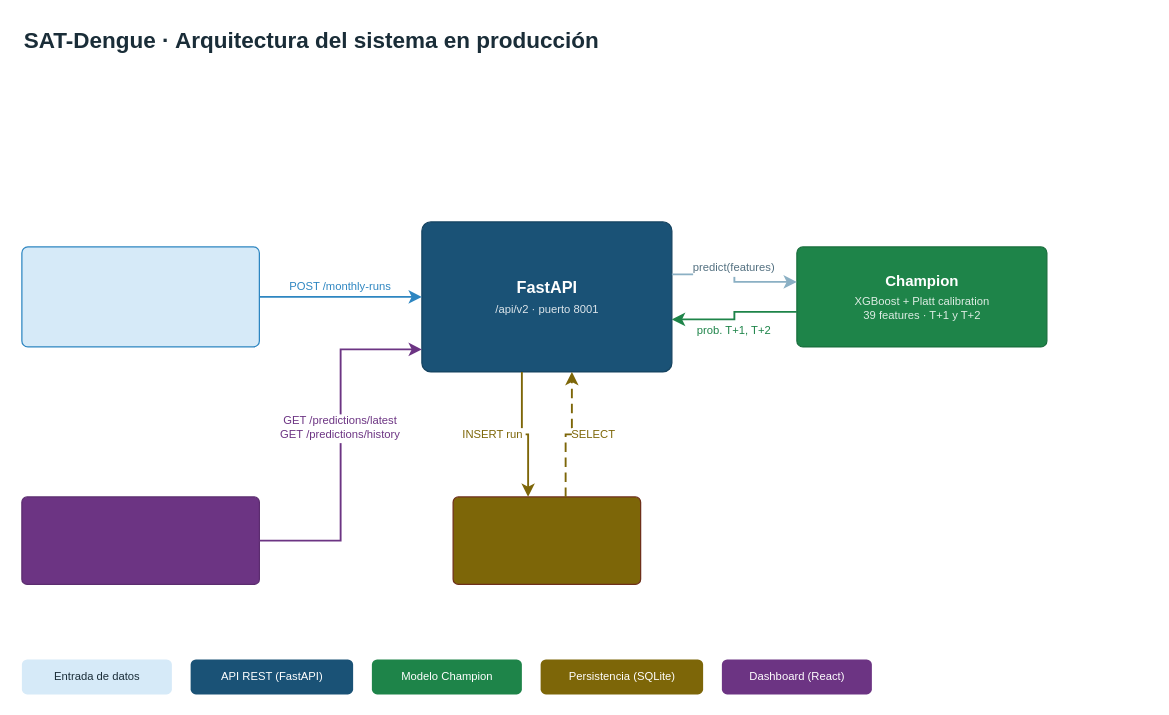
Some shapes in this 1169 by 715 pixel diagram are drawn without their labels. The shapes that lost their labels are listed below. From the top down, each one's centre as x and y in pixels, then its label:
At [140,296]: "CSV mensual carga_mensual_YYYY-MM.csv".
At [140,540]: "Dashboard React + Vite · puerto 3000".
At [546,540]: "SQLite runs · predictions".
